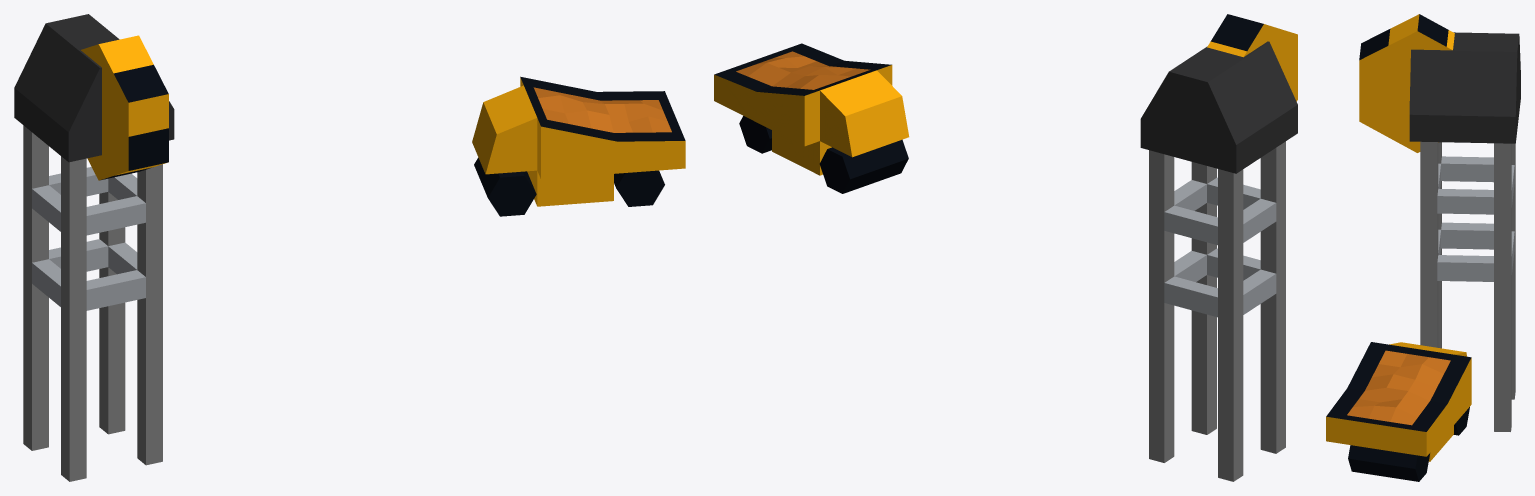
Rendered from Border_7_exploring.fbx.
3 views of the same model, side by side, from view 1: azimuth 30°, elevation 25°; view 2: azimuth 150°, elevation 25°; view 3: azimuth 270°, elevation 25° (orthographic). The views are drawn at different scales.
Parts seen in each view (by area): view 1: Cube.015, Cube.016, Cylinder.007; view 2: Cube.015, Cube.016, Cylinder.007; view 3: Cube.015, Cube.016, Cylinder.007.
Boxes of the visible parts, left/top/right/bottom form: Cube.015: left=14, top=14, right=174, bottom=481; Cube.016: left=472, top=76, right=685, bottom=216; Cylinder.007: left=81, top=35, right=168, bottom=180; Cube.015: left=1140, top=41, right=1297, bottom=481; Cube.016: left=714, top=43, right=909, bottom=193; Cylinder.007: left=1207, top=14, right=1297, bottom=101; Cube.015: left=1409, top=32, right=1520, bottom=431; Cube.016: left=1326, top=342, right=1471, bottom=481; Cylinder.007: left=1359, top=14, right=1454, bottom=152.
Bounding box in the file's own units: 229 × 158 × 71.71.
